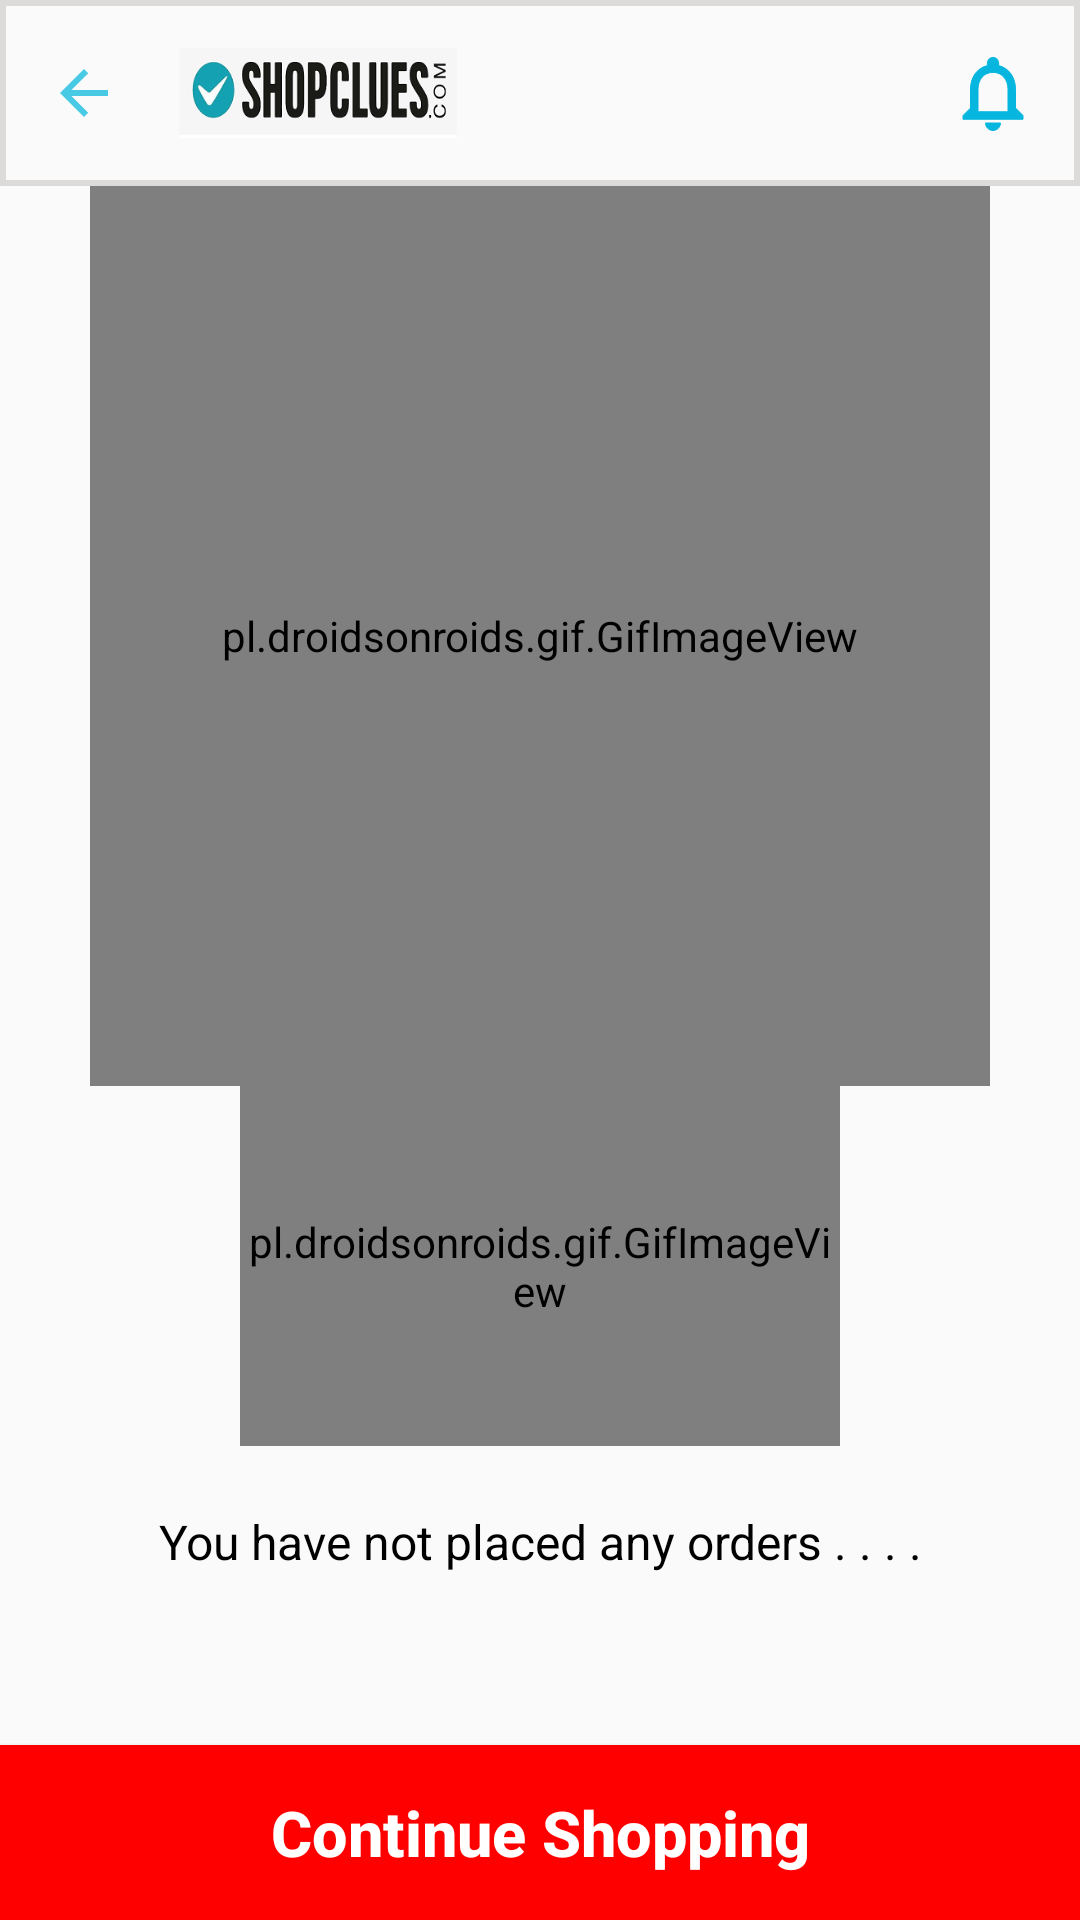

Icon click points for this 1080×1920 phone screenshot, format [x,y]:
arrow back: [84,93]
notification: [993,94]
